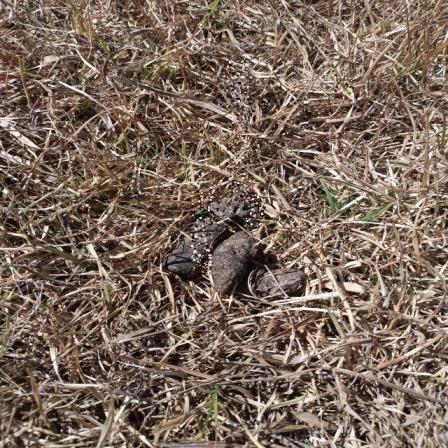dog-poop: (162, 185, 305, 301)
